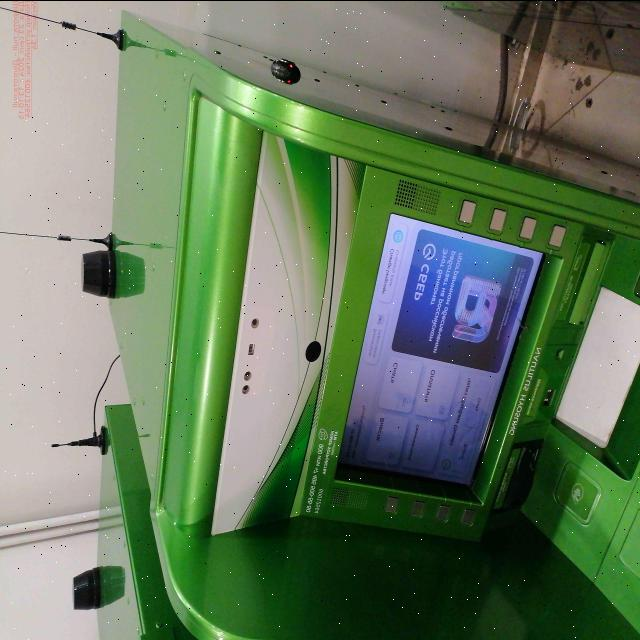bank: (113, 9, 640, 640), (84, 403, 202, 640)
